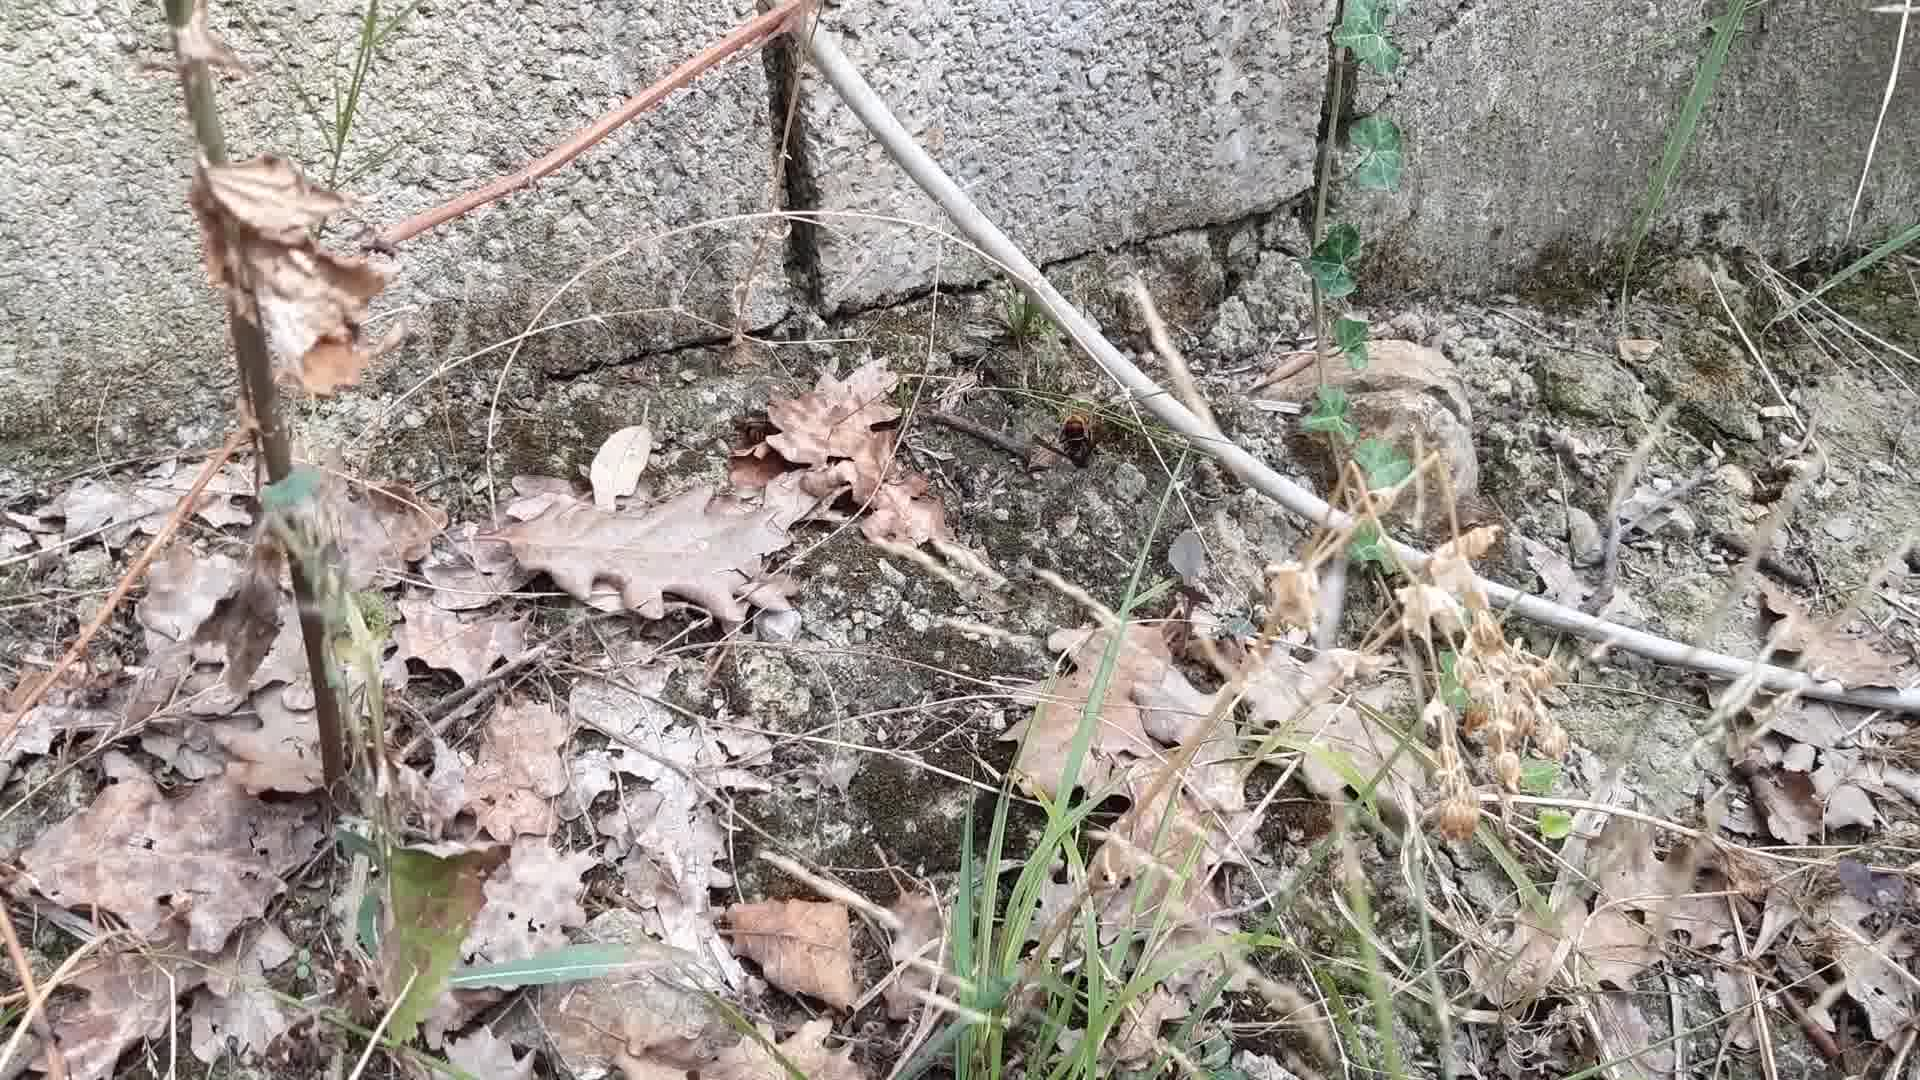hornet: (1034, 406, 1110, 476)
